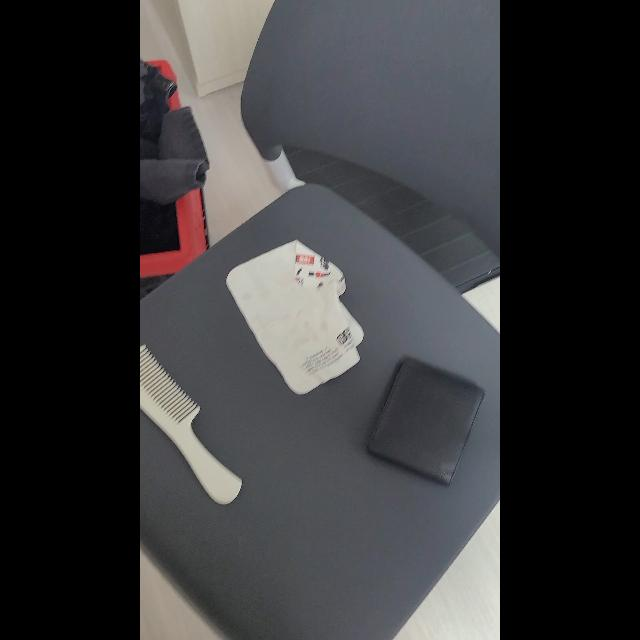COMB: (140, 345, 242, 505)
Glasses cleaning cloth: (226, 240, 364, 394)
WALLET: (368, 356, 484, 486)
